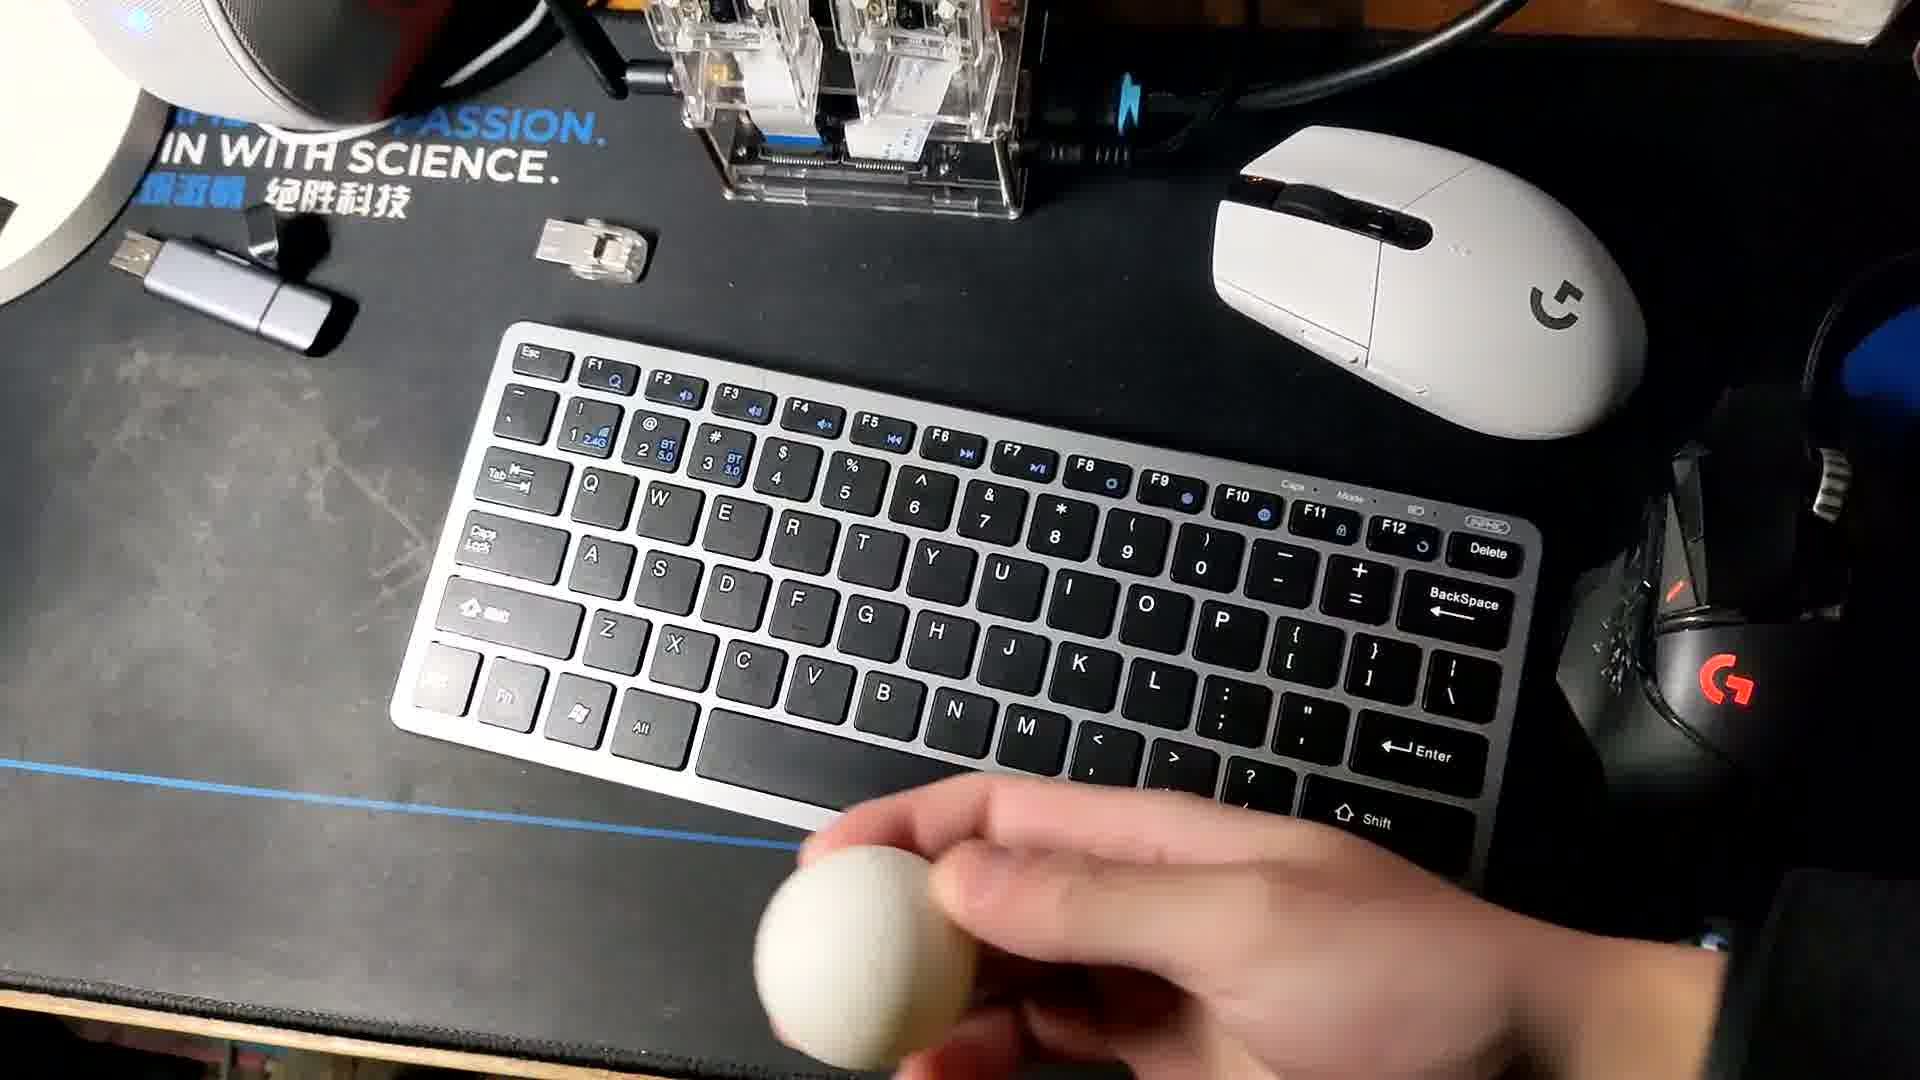Ball: (753, 841, 967, 1080)
